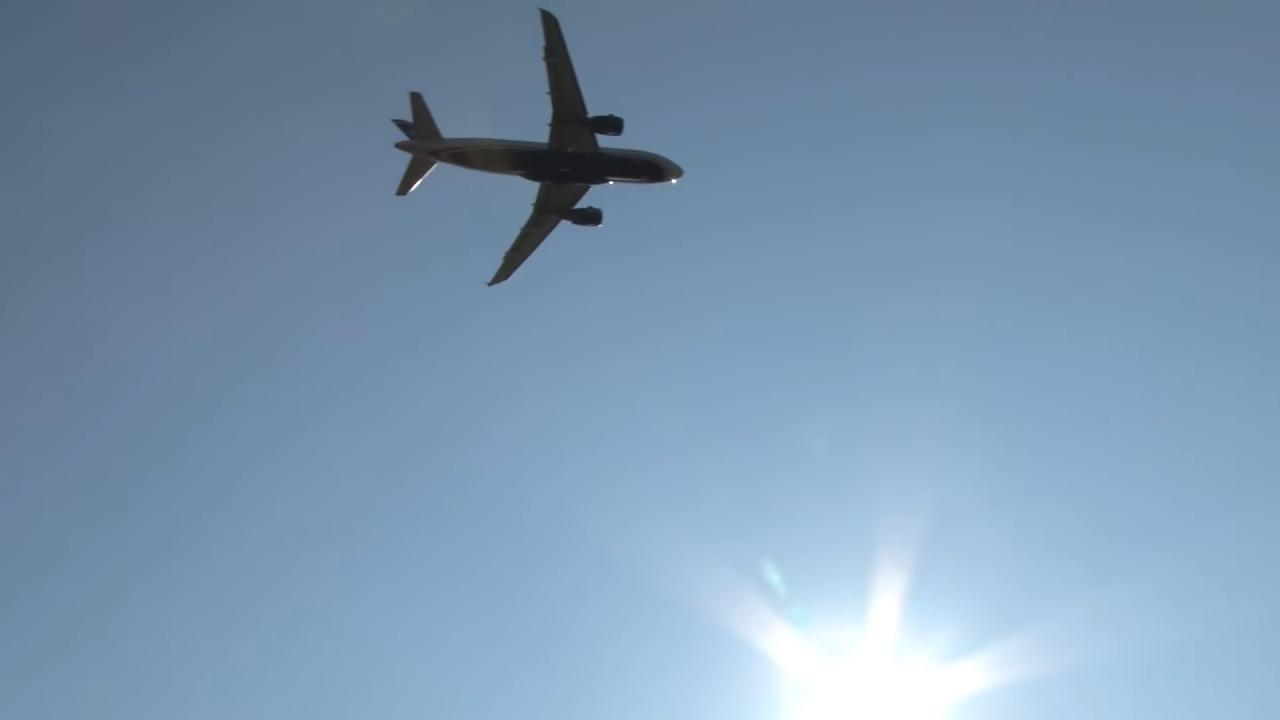Airplane: (376, 0, 694, 294)
